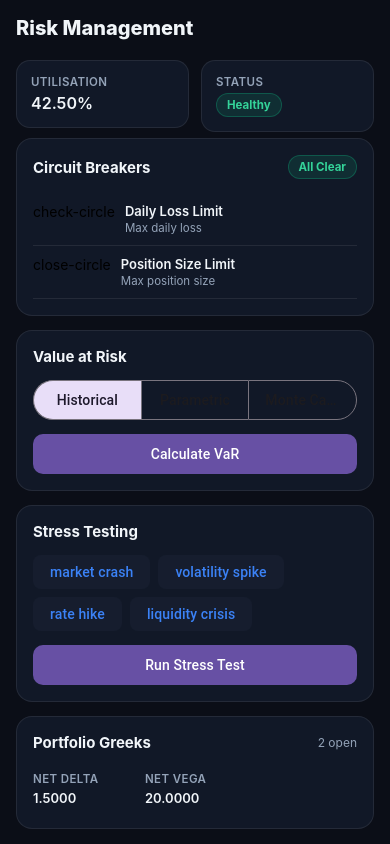
Stress testing › runs the default scenario against a 100k portfolio
expect the text "Circuit Breakers" is shown: met, box [33, 158, 150, 176]
Click the button "Run Stress Test" at (195, 665), box [33, 645, 357, 685]
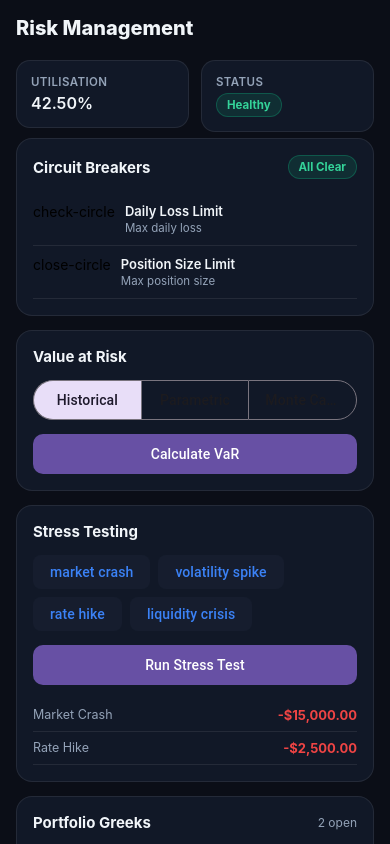
expect the text "-$15,000.00" is shown: met, box [278, 707, 357, 723]
